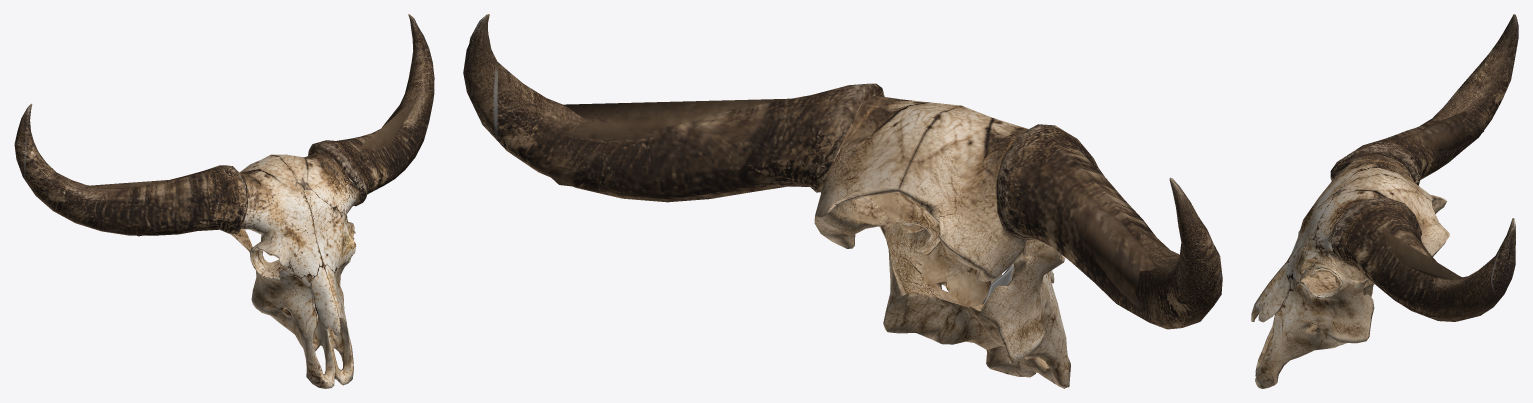
File: Meshy_AI_Weathered_Bull_Skull_20261028_texture.fbx
3 views of the same model, side by side, from view 1: azimuth 30°, elevation 25°; view 2: azimuth 150°, elevation 25°; view 3: azimuth 270°, elevation 25° (orthographic). The views are drawn at different scales.
Visible parts, largest first — view 1: Mesh_0; view 2: Mesh_0; view 3: Mesh_0.
Part boxes in pixels (box(x1,y1,x2,y2)): Mesh_0: box(14, 14, 434, 388); Mesh_0: box(463, 14, 1222, 388); Mesh_0: box(1251, 14, 1518, 388).
Bounding box in the file's own units: 95.7 × 54.15 × 49.12.
Materials: 1 (1 with a texture image).
